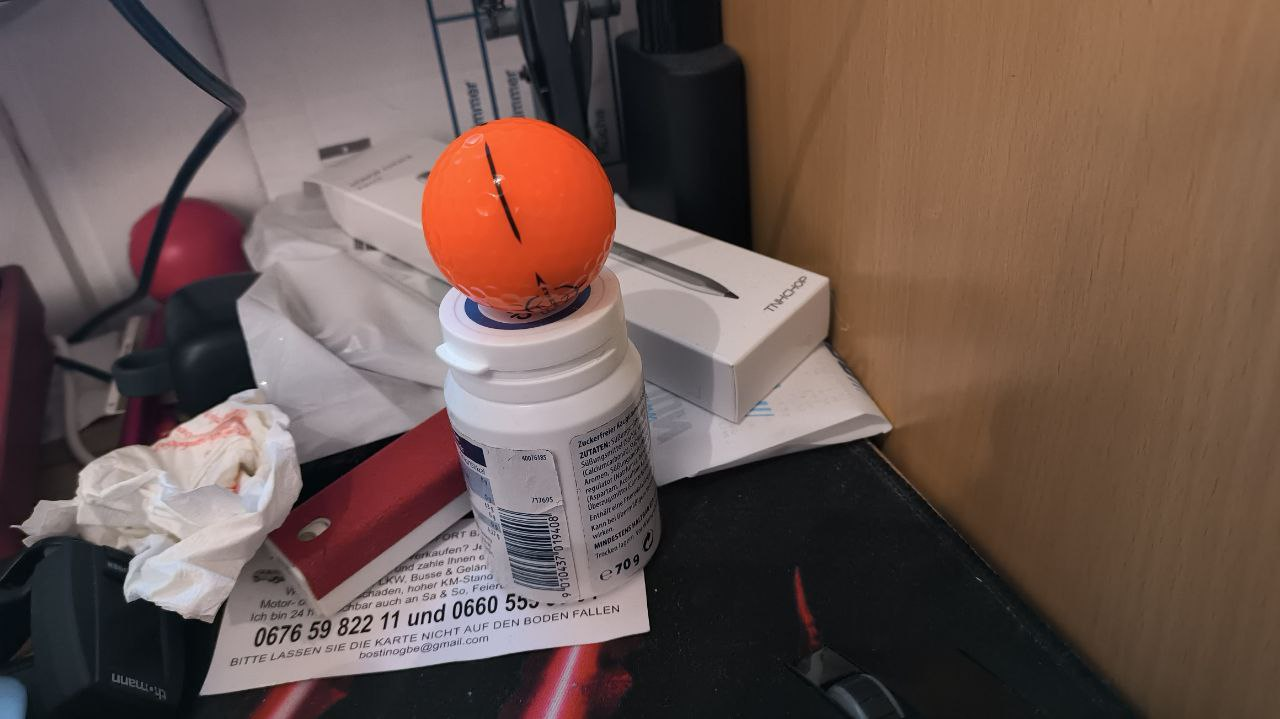orange_ball: (420, 116, 617, 313)
